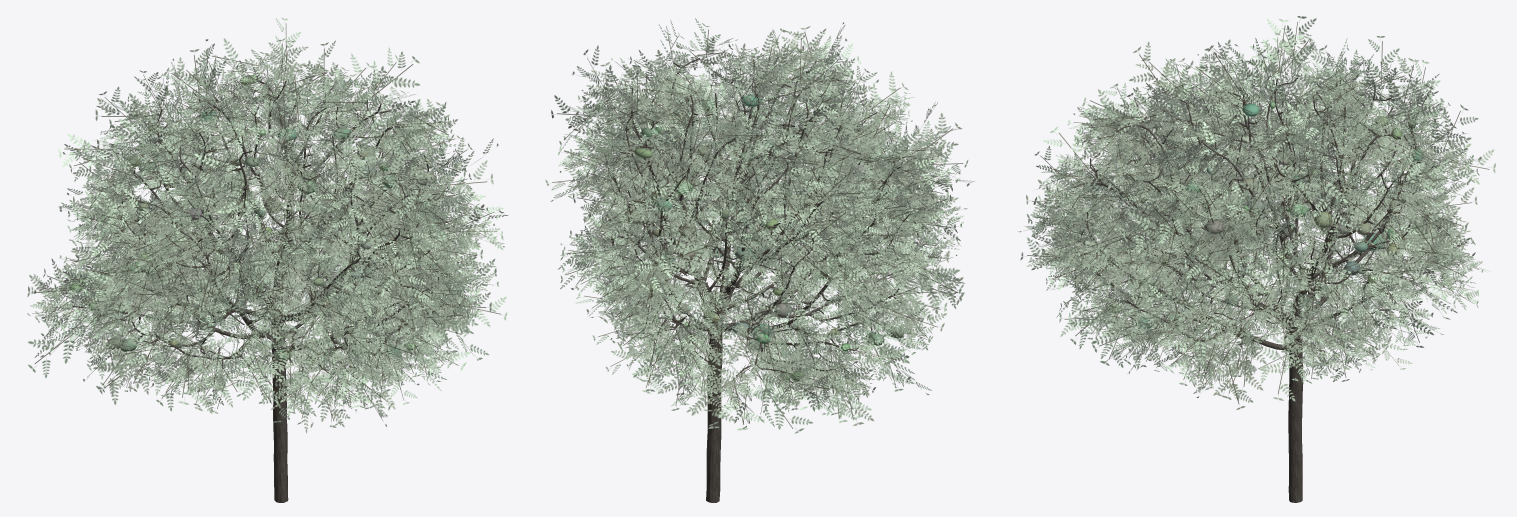
Rendered from tree_35_broadleaf.glb.
3 renders of one model, left to right at view 1: azimuth 30°, elevation 25°; view 2: azimuth 150°, elevation 25°; view 3: azimuth 270°, elevation 25°, orthographic.
Visible parts, largest first — view 1: tree_35_broadleaf.leaves, tree_35_broadleaf.trunk_branches, tree_35_broadleaf.foliage_volume; view 2: tree_35_broadleaf.leaves, tree_35_broadleaf.trunk_branches, tree_35_broadleaf.foliage_volume; view 3: tree_35_broadleaf.leaves, tree_35_broadleaf.trunk_branches, tree_35_broadleaf.foliage_volume.
Boxes of the visible parts, <box> form: tree_35_broadleaf.leaves: <box>27,18,508,433</box>; tree_35_broadleaf.trunk_branches: <box>72,74,449,502</box>; tree_35_broadleaf.foliage_volume: <box>69,75,436,364</box>; tree_35_broadleaf.leaves: <box>545,18,974,433</box>; tree_35_broadleaf.trunk_branches: <box>605,58,921,502</box>; tree_35_broadleaf.foliage_volume: <box>623,94,903,380</box>; tree_35_broadleaf.leaves: <box>1018,16,1495,409</box>; tree_35_broadleaf.trunk_branches: <box>1079,77,1440,502</box>; tree_35_broadleaf.foliage_volume: <box>1092,101,1426,339</box>.
Size of the model in its own units: 11.07 by 11.98 by 11.55.
3 materials, 2 textured.
